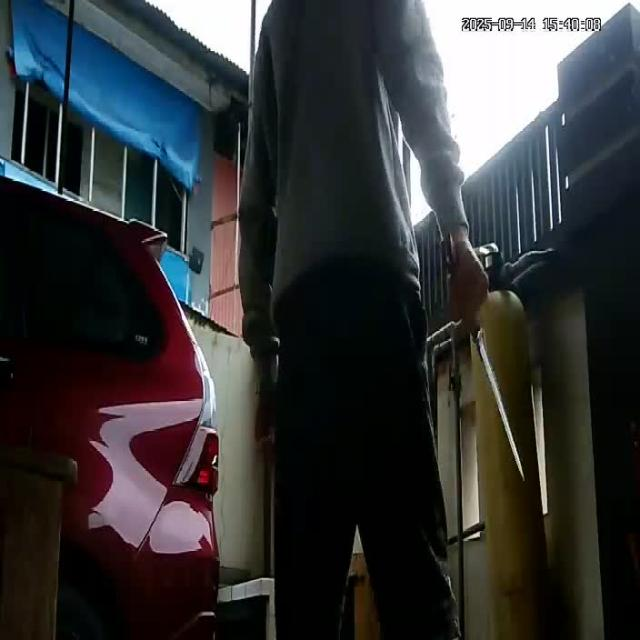senjata_tajam: (471, 324, 528, 486)
